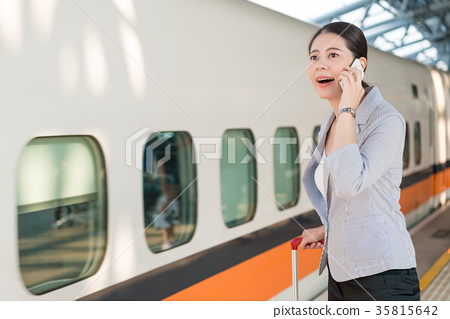phone: (339, 61, 366, 92)
talk: (311, 45, 370, 113)
